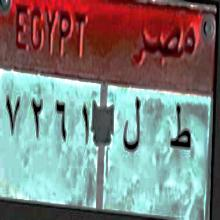1: (78, 100, 91, 152)
2: (30, 91, 45, 144)
6: (53, 94, 69, 150)
7: (4, 91, 21, 141)
Taa: (167, 101, 194, 162)
laam: (121, 92, 145, 160)
